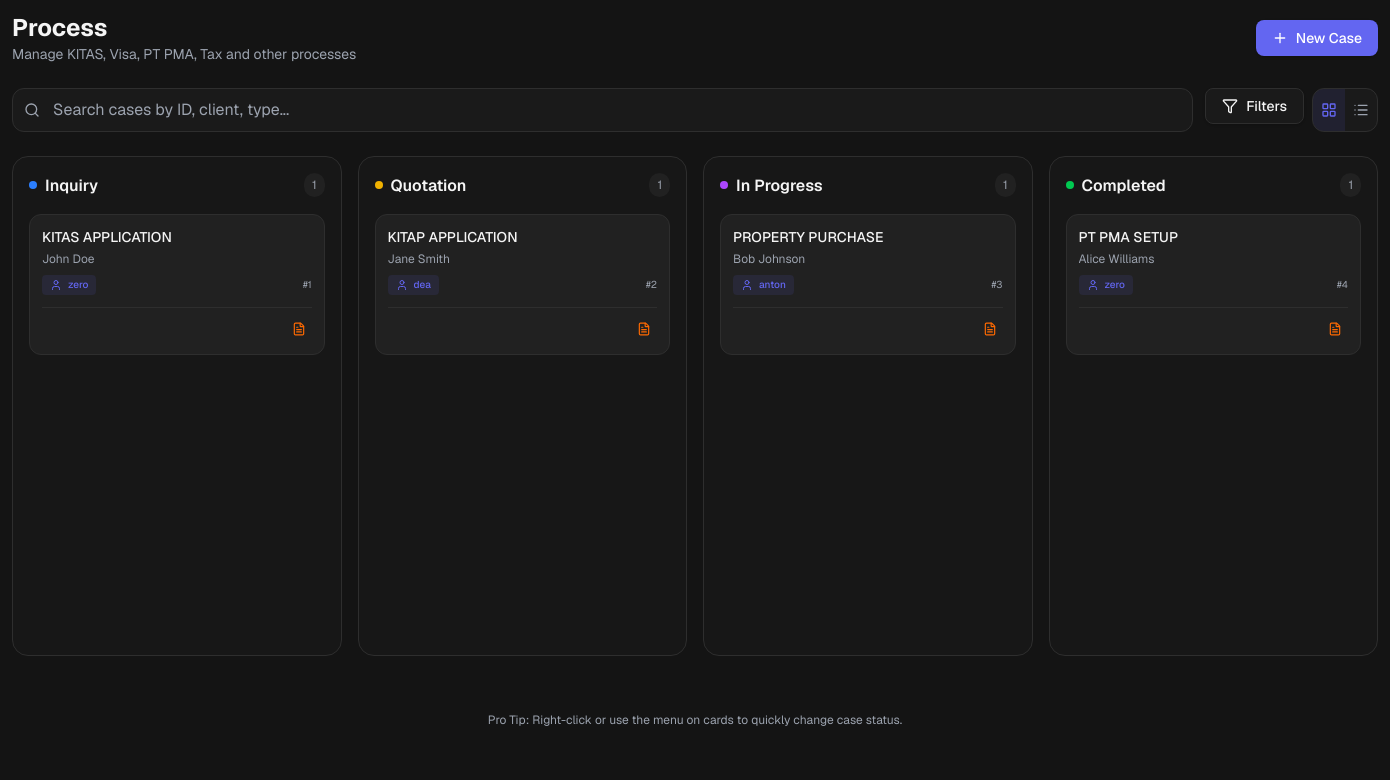
Cases Page › Search Functionality › should filter cases by ID
expect the text "John Doe" is shown: met, box x1=42 y1=251 x2=94 y2=267
In the field with placeholder "Search cases by ID, client, type...": (603, 110) x1=12 y1=88 x2=1193 y2=132, type "2"
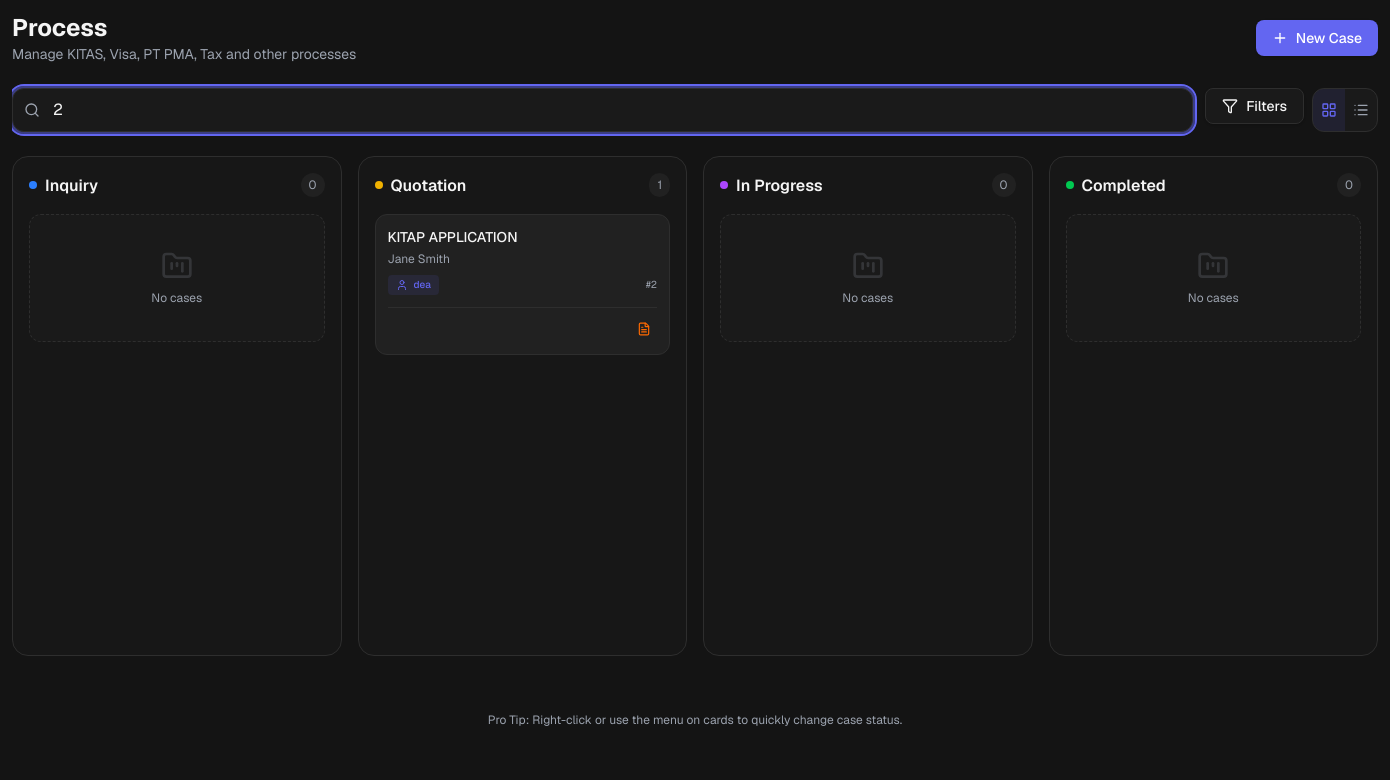
expect the text "Jane Smith" is shown: met, box x1=388 y1=251 x2=450 y2=267
expect the text "John Doe" is gone: met
